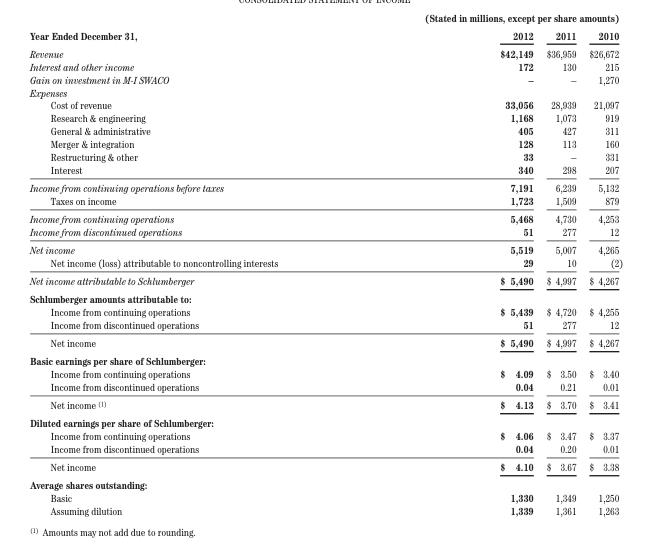table: (29, 28, 622, 516)
table column: (29, 28, 388, 516), (388, 28, 539, 516), (539, 28, 581, 516), (581, 28, 622, 516)
table column header: (29, 28, 622, 44)
table projected row header: (29, 289, 622, 305), (29, 351, 622, 367), (29, 413, 622, 429), (29, 475, 622, 491), (29, 85, 622, 98)
table row: (29, 271, 622, 289), (29, 333, 622, 351), (29, 395, 622, 413), (29, 457, 622, 475), (29, 28, 622, 44), (29, 162, 622, 178), (29, 193, 622, 209), (29, 224, 622, 240), (29, 255, 622, 271), (29, 289, 622, 305), (29, 317, 622, 333), (29, 351, 622, 367), (29, 379, 622, 395), (29, 413, 622, 429), (29, 441, 622, 457), (29, 475, 622, 491), (29, 44, 622, 59), (29, 178, 622, 193), (29, 209, 622, 224), (29, 240, 622, 255), (29, 59, 622, 72), (29, 72, 622, 85), (29, 85, 622, 98), (29, 98, 622, 111), (29, 111, 622, 124), (29, 124, 622, 137), (29, 149, 622, 162), (29, 503, 622, 516), (29, 137, 622, 149), (29, 305, 622, 317), (29, 367, 622, 379), (29, 429, 622, 441), (29, 491, 622, 503)
